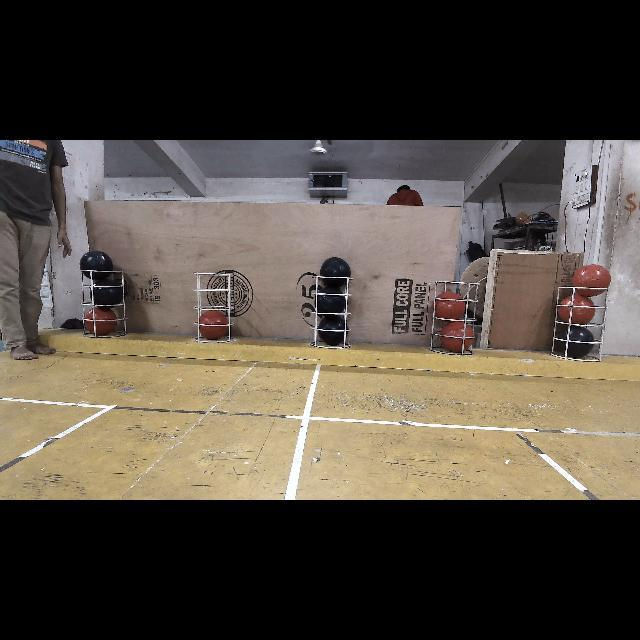P: (560, 326, 594, 358), (81, 251, 115, 280), (320, 258, 351, 288), (91, 279, 122, 307), (320, 316, 348, 346), (318, 287, 344, 315)
R: (572, 264, 611, 298), (559, 296, 595, 324), (441, 320, 473, 350), (433, 292, 465, 321), (84, 308, 118, 334), (200, 312, 228, 338)
S: (552, 284, 608, 364), (429, 278, 481, 358), (77, 266, 131, 340), (193, 269, 237, 345), (310, 274, 352, 350)
